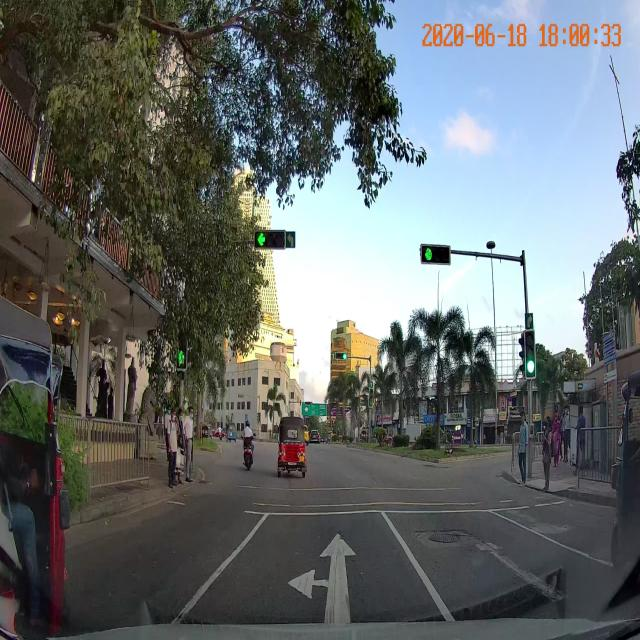forward_lft: (169, 511, 458, 623)
